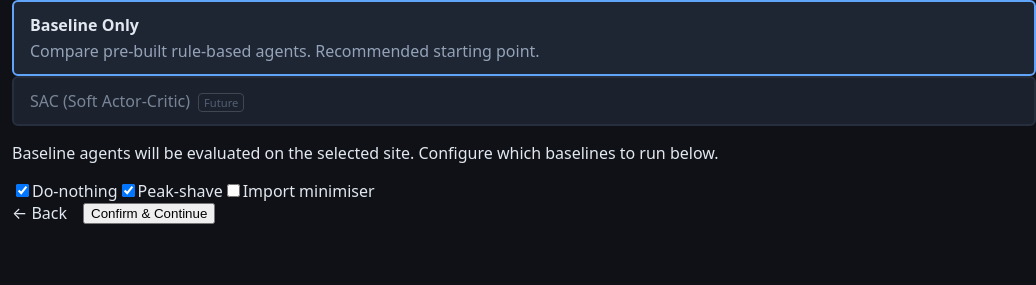
Test: §T5 Baseline selection › [T-BASE-6] re-checking a baseline clears the no-baseline error
The width and height of the screenshot is (1036, 285).
Click the checkbox with test id "baseline-checkbox-do_nothing".
click(22, 190)  # box [16,184,29,197]
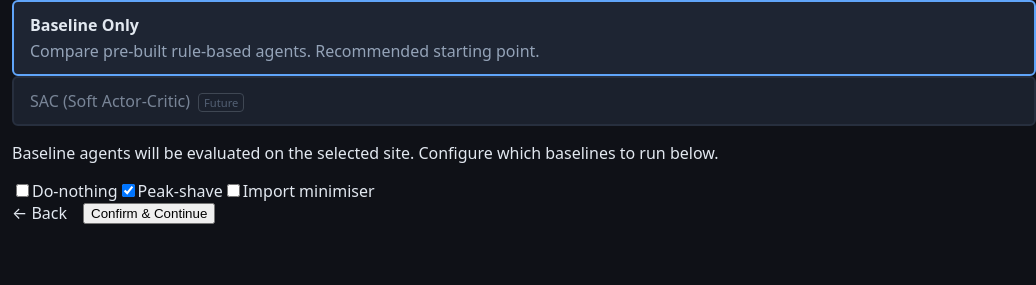
Click the checkbox with test id "baseline-checkbox-peak_shave".
click(128, 190)  # box [122,184,135,197]
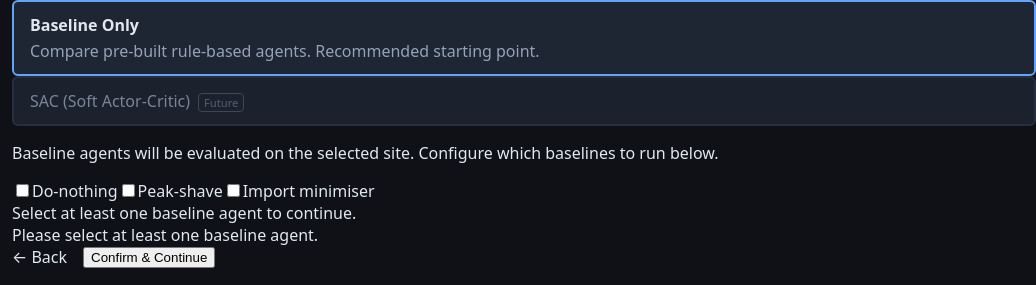
Expected: the message "Select at least one baseline agent to continue." is shown, [12,202,356,224]
Click the checkbox with test id "baseline-checkbox-do_nothing".
click(22, 190)  # box [16,184,29,197]
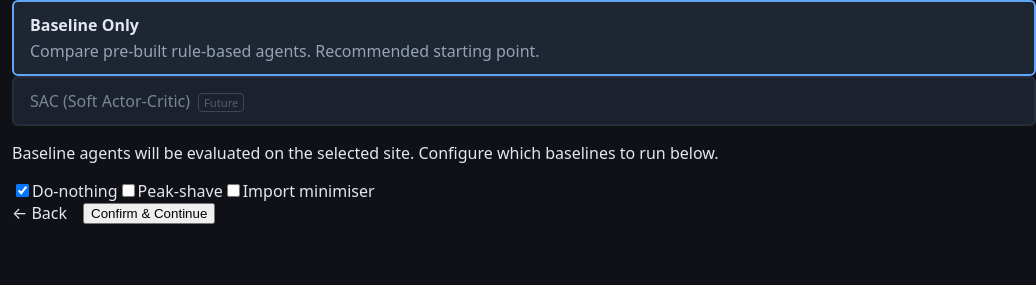
Expected: the message with test id "baseline-none-error" is gone
